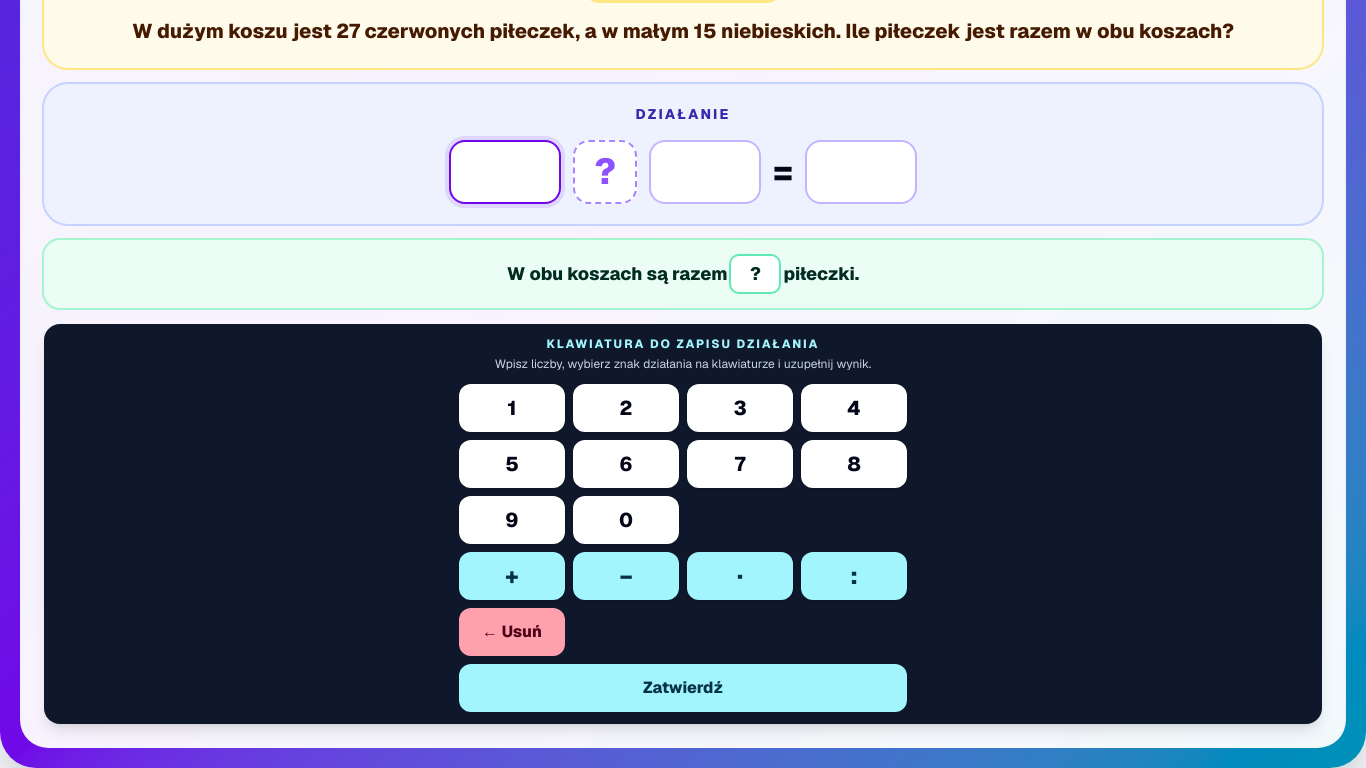
it: Grade4StoryProblemsOneLessonLab › nie pozwala zatwierdzić niepełnego działania
(page scrolled)
Expected: the text "Ile piłeczek jest razem w obu koszach?" is shown, top-left (132, 18), bottom-right (1234, 44)
Click the button "2" at (626, 408), box top-left (573, 384), bottom-right (679, 432)
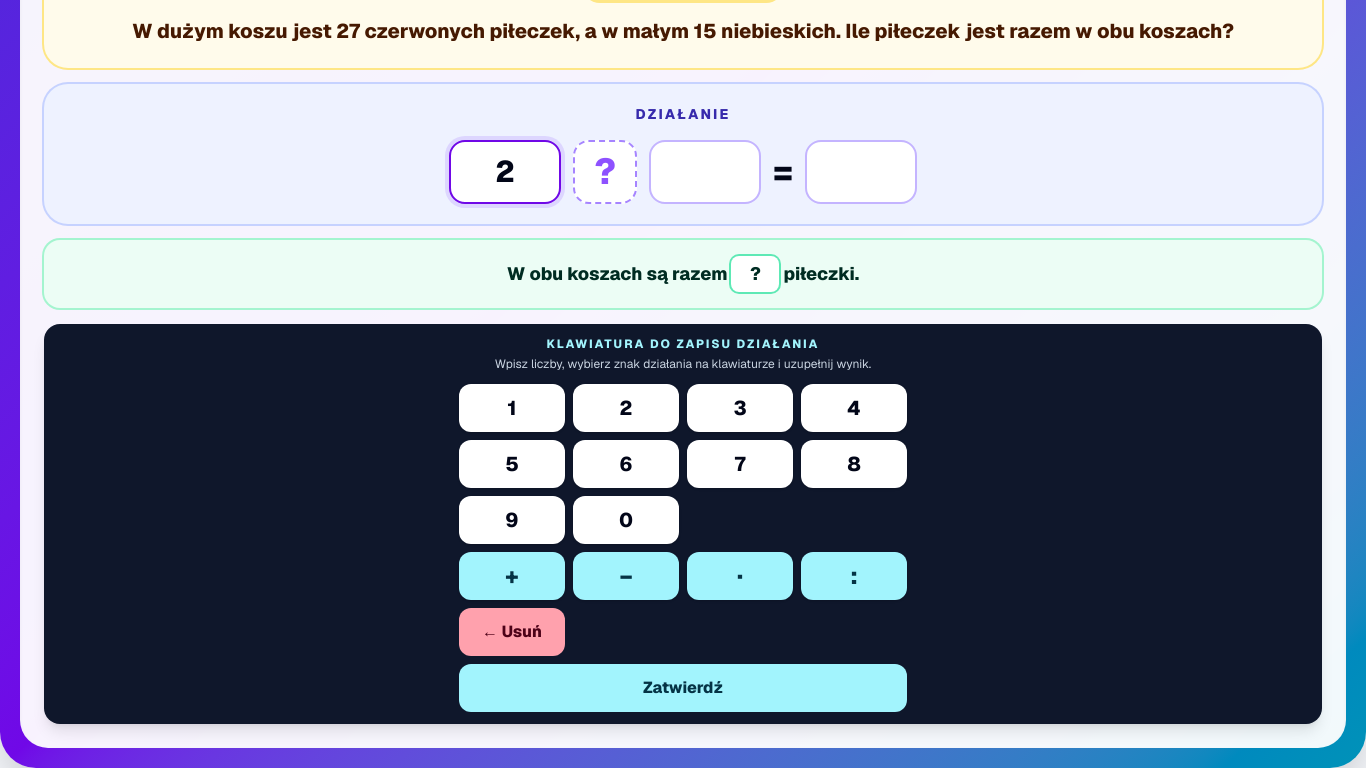
Click the button "7" at (740, 464), box top-left (687, 440), bottom-right (793, 488)
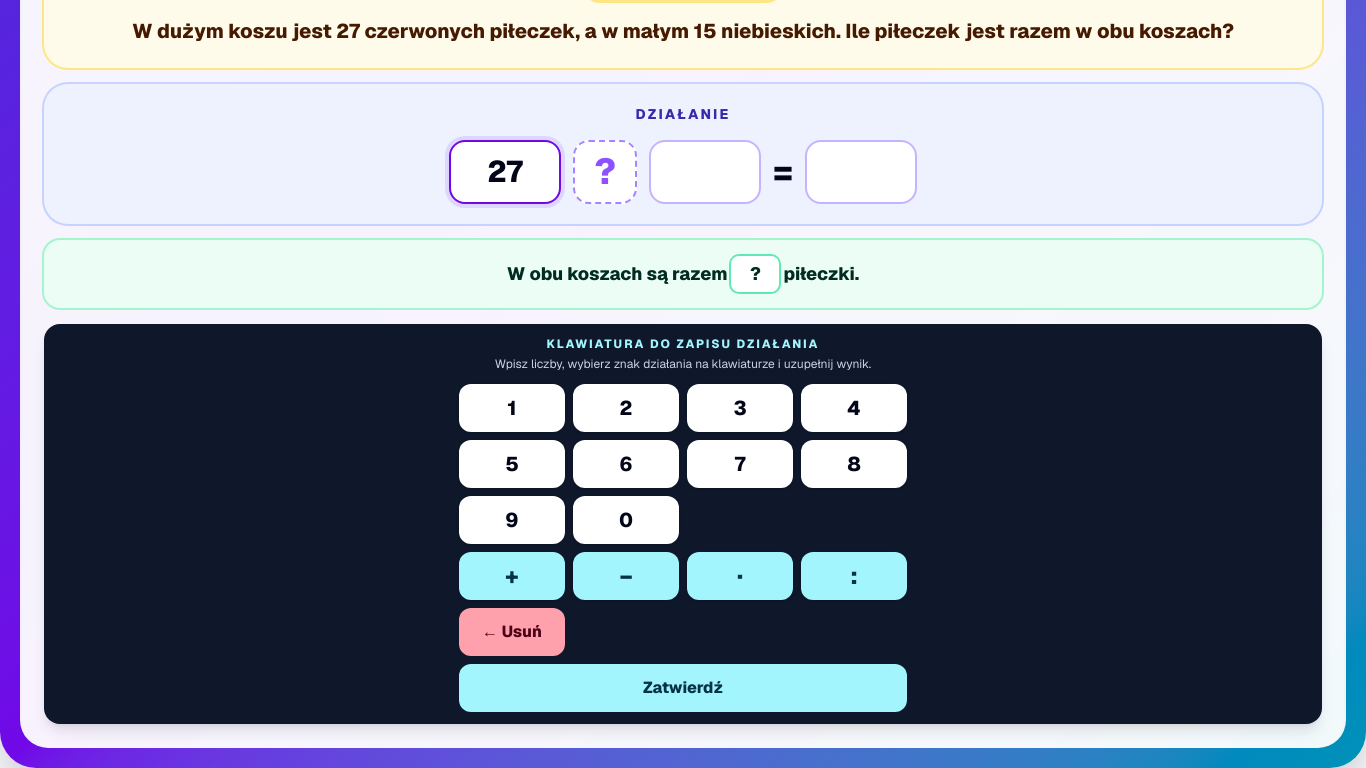
Click the button "Zatwierdź" at (683, 688), box top-left (459, 664), bottom-right (907, 712)
(page scrolled)
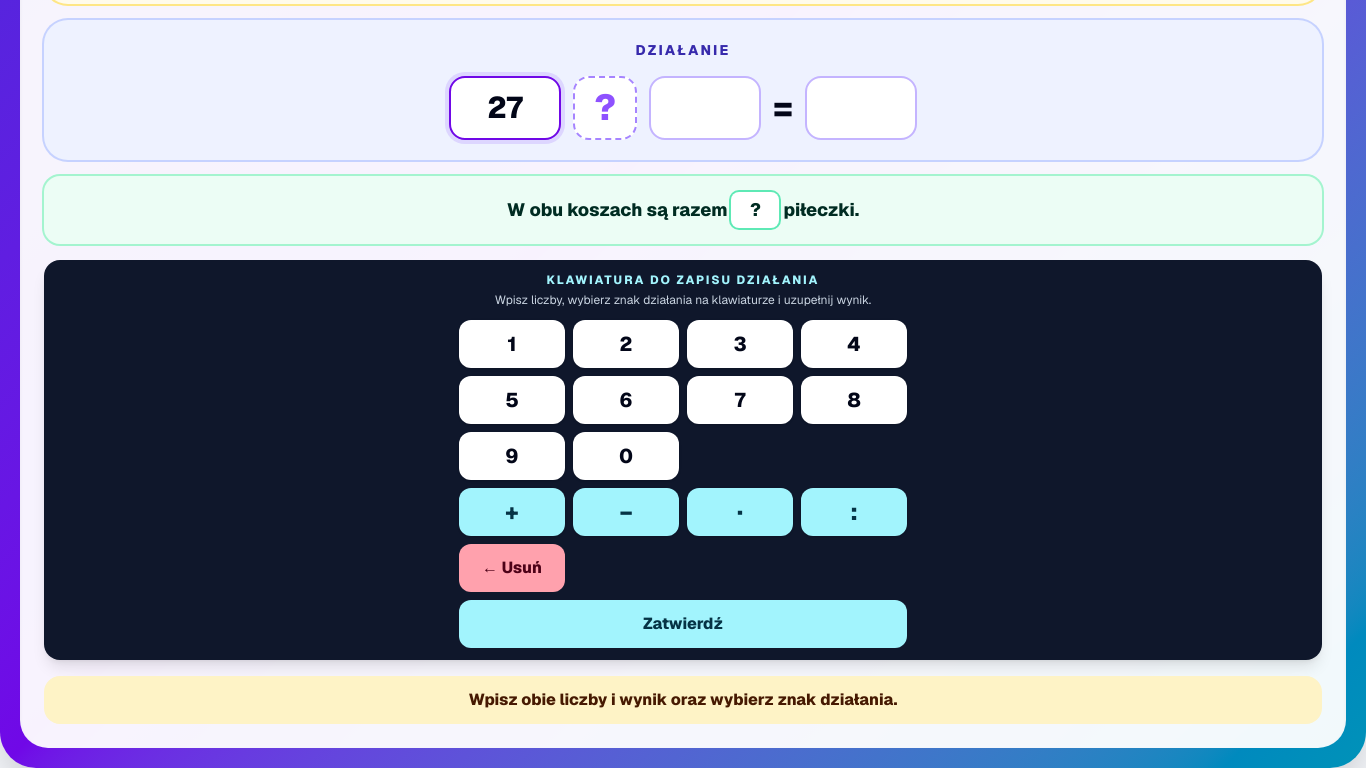
Result: the message reads "Wpisz obie liczby i wynik oraz wybierz znak działania." at top-left (468, 688), bottom-right (898, 710)
